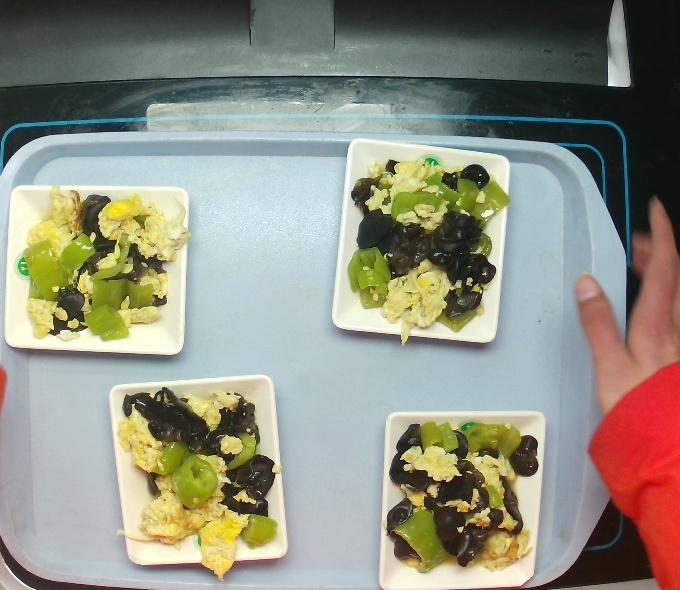wcq-MuErDanHuang: (115, 378, 282, 575), (378, 405, 541, 587), (349, 154, 502, 340), (23, 191, 172, 343)
